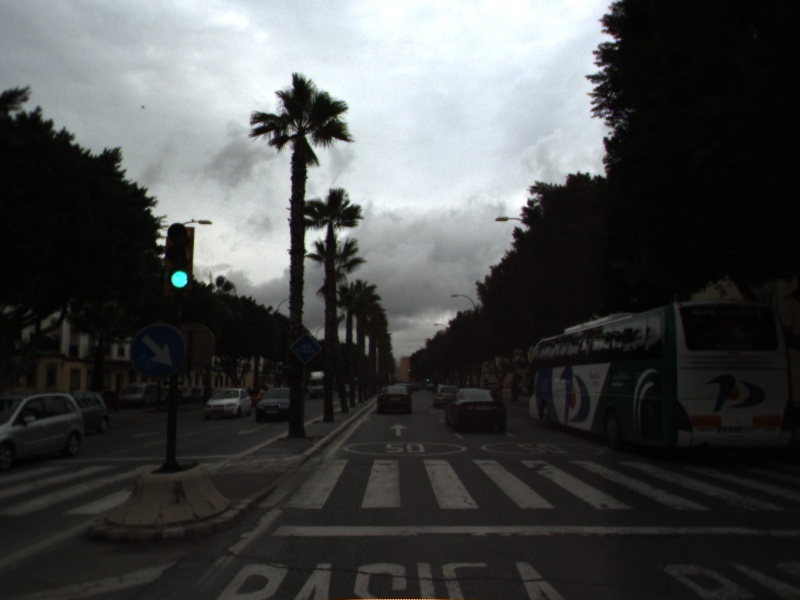STRAIGHT: (386, 421, 411, 438)
